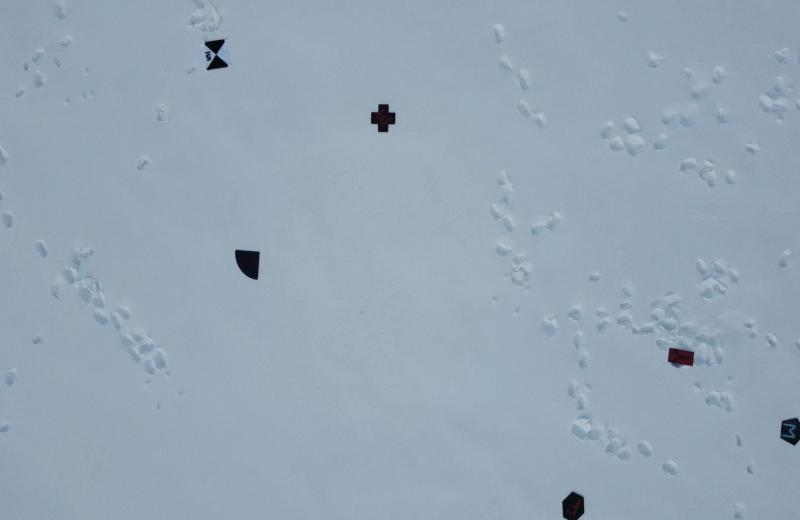Cross: (368, 100, 396, 136)
Hexagon: (558, 484, 590, 520)
Pentagon: (778, 406, 800, 453)
Quarter Circle: (232, 240, 264, 288)
Rectangle: (1, 0, 800, 520), (667, 342, 695, 374)
